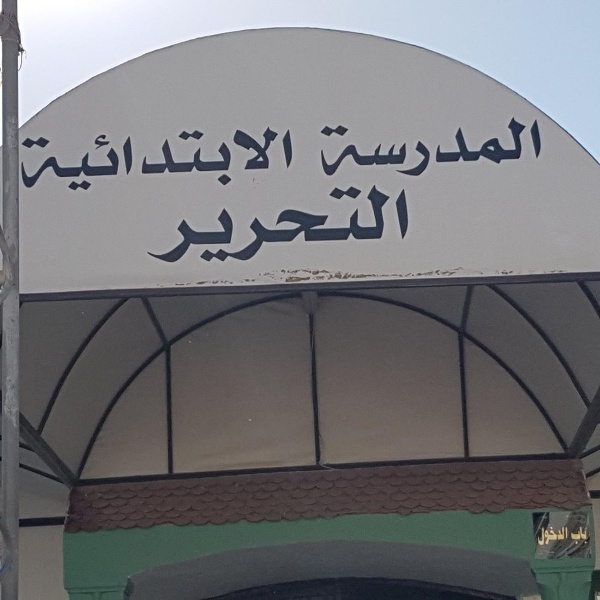text: (33, 118, 48, 201), (49, 118, 64, 201), (65, 118, 80, 201), (81, 118, 96, 201), (97, 118, 112, 201), (113, 118, 128, 201), (129, 118, 144, 201), (145, 118, 160, 201), (161, 118, 176, 201), (177, 118, 192, 201), (193, 118, 208, 201), (209, 118, 224, 201), (225, 118, 240, 201), (241, 118, 256, 201), (257, 118, 272, 201), (273, 118, 288, 201), (145, 186, 160, 265), (161, 186, 176, 265), (177, 186, 192, 265), (193, 186, 208, 265), (209, 186, 224, 265), (225, 186, 240, 265), (241, 186, 256, 265), (257, 186, 272, 265), (273, 186, 288, 265), (289, 186, 304, 265), (305, 186, 320, 265), (321, 186, 336, 265), (337, 186, 352, 265), (353, 186, 368, 265), (369, 186, 384, 265), (385, 186, 400, 265), (19, 118, 32, 201), (289, 118, 301, 201), (321, 118, 336, 177), (337, 118, 352, 177), (353, 118, 368, 177), (369, 118, 384, 177), (385, 118, 400, 177), (401, 118, 416, 177), (417, 118, 432, 177), (433, 118, 448, 177), (449, 118, 464, 177), (465, 118, 480, 177), (481, 118, 496, 177), (497, 118, 512, 177), (513, 118, 528, 177), (529, 118, 543, 177), (401, 186, 411, 265), (545, 526, 560, 547), (577, 527, 589, 546), (317, 118, 320, 177), (561, 526, 569, 547), (538, 526, 544, 547), (571, 527, 576, 546)
